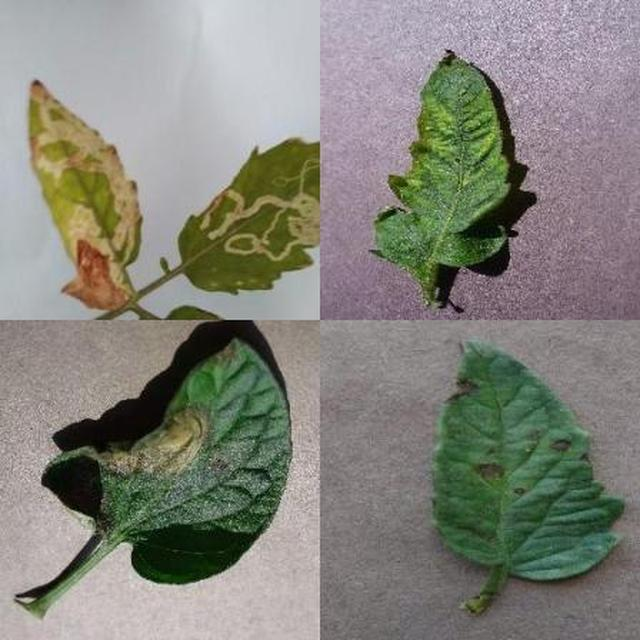Leaf Miner: (123, 224, 640, 640)
